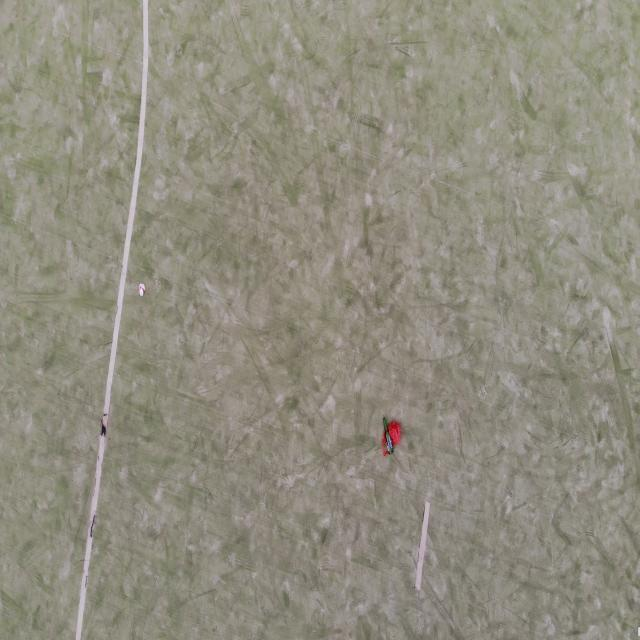rubbish: (382, 415, 400, 455), (140, 283, 146, 298)
